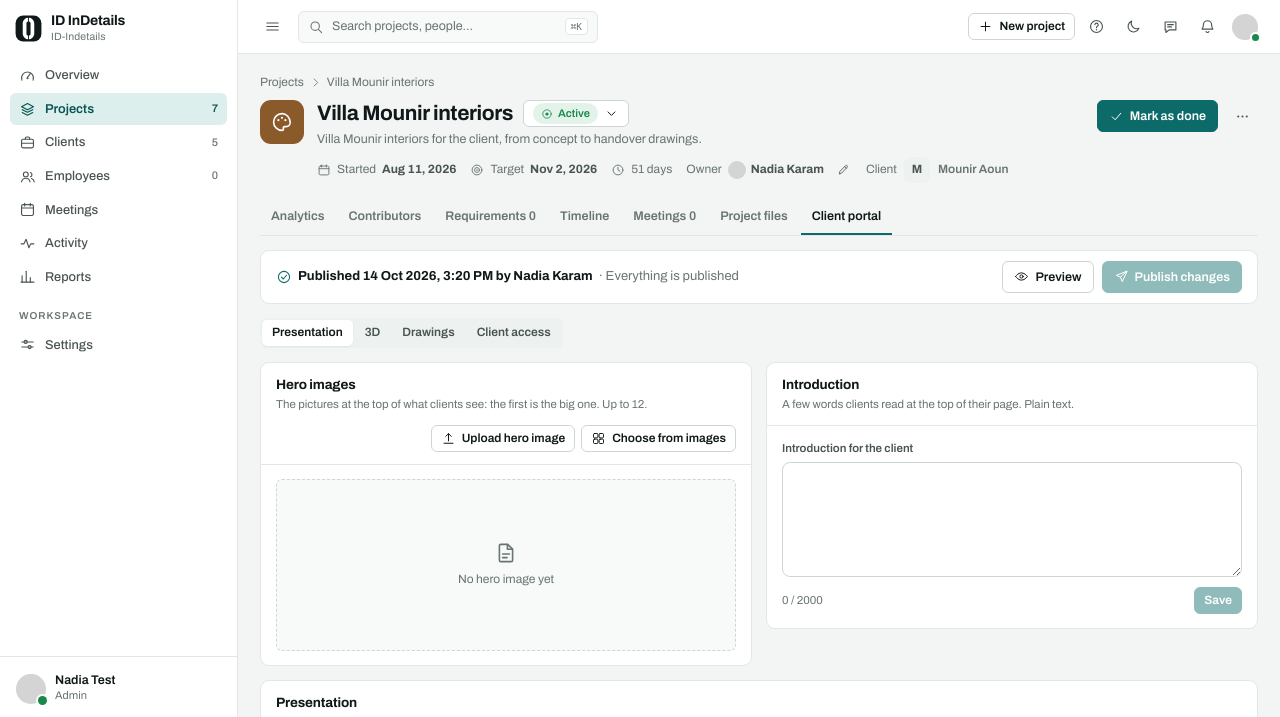
Test: the publish bar after a change that is undone › follows the server after every change to the files: shown to the client and hidden again is nothing to publish
Check: the text "· Everything is published" is shown, box [599,267,739,286]
Click the tab "Project files": (754, 217) [709,198,799,235]
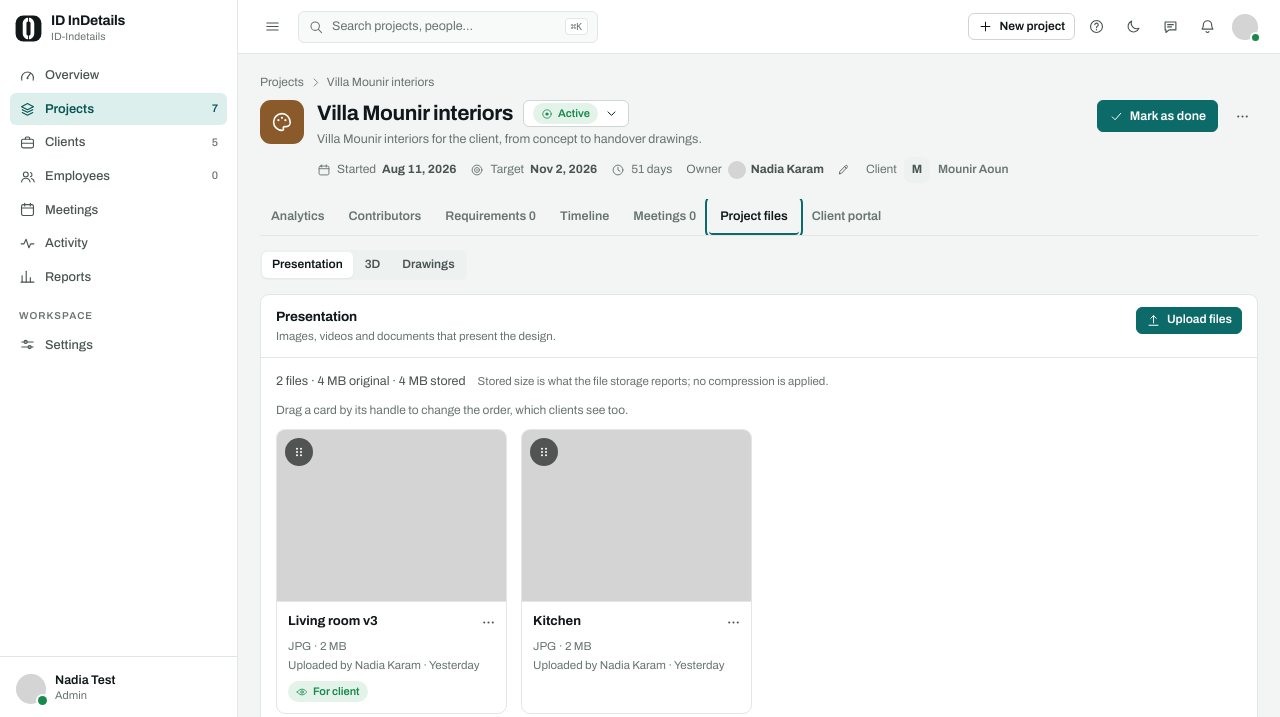
Click the button named "Actions for Kitchen": (731, 622) [718,609,744,635]
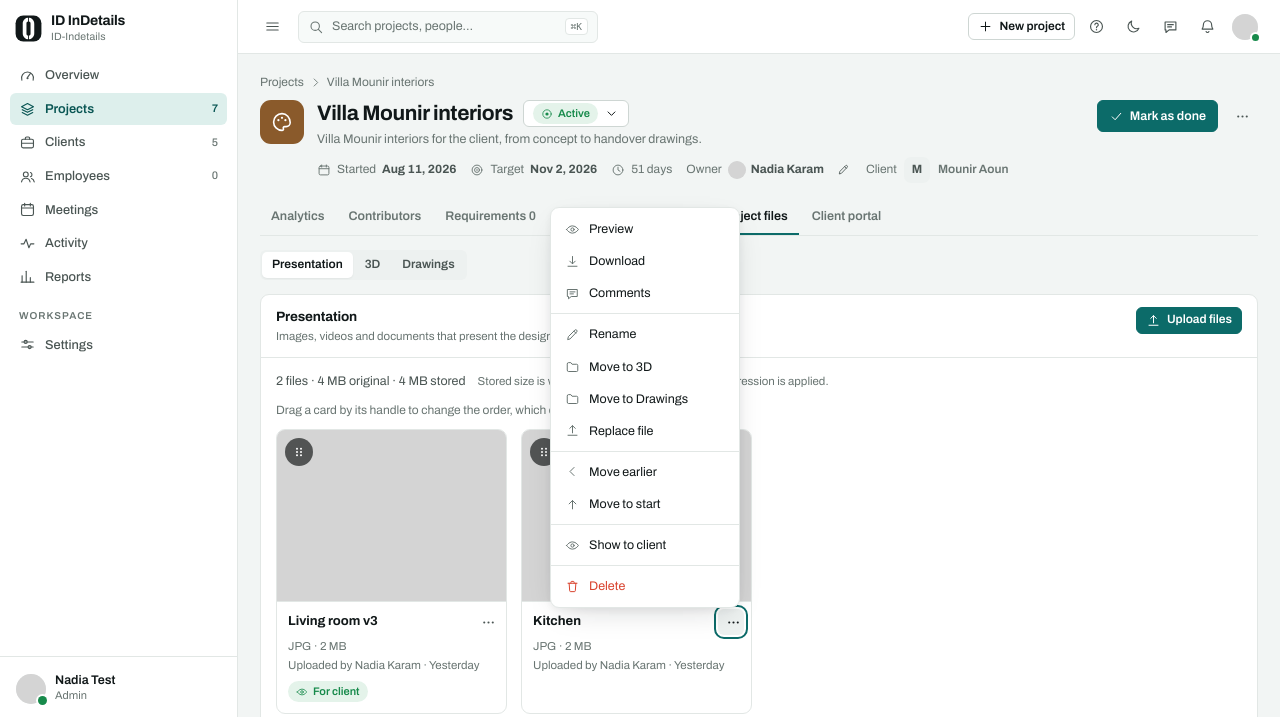
Click the button "Show to client": (645, 545) [556,529,734,561]
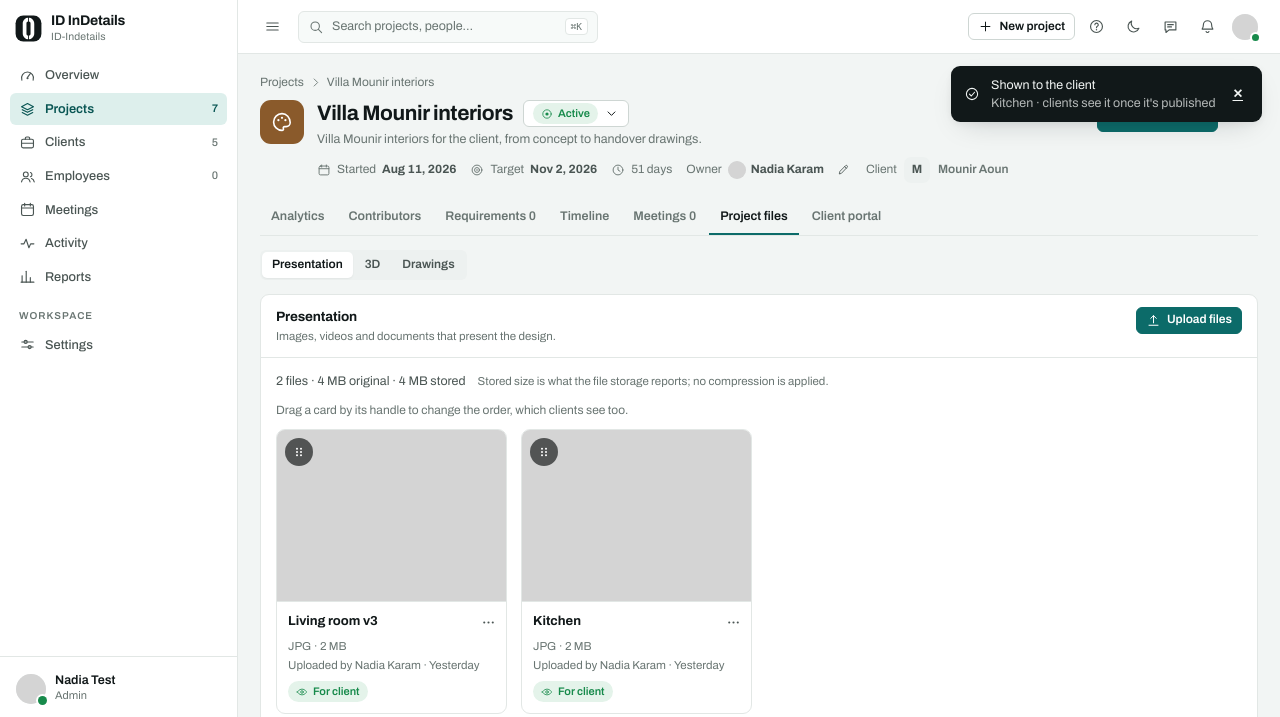
Check: the text "Shown to the client" is shown, box [991,78,1096,92]
Click the button named "Actions for Kitchen": (731, 622) [718,609,744,635]
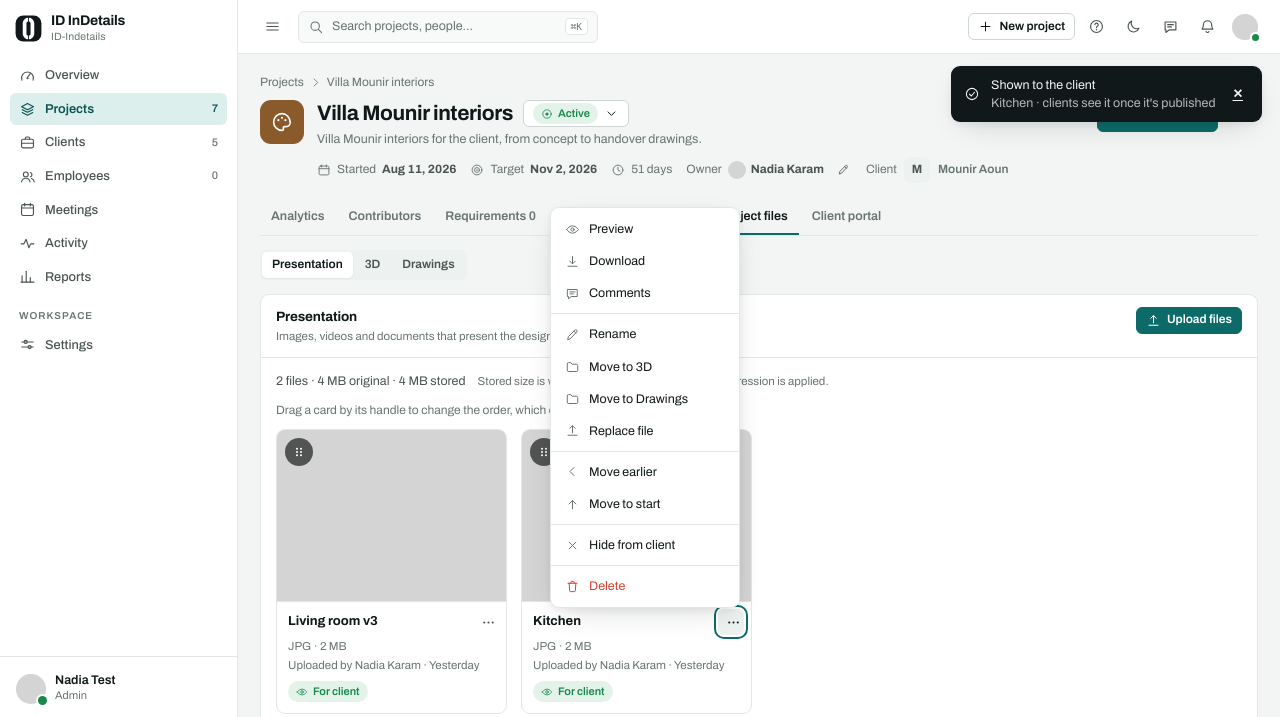
Click the button "Hide from client": (645, 545) [556,529,734,561]
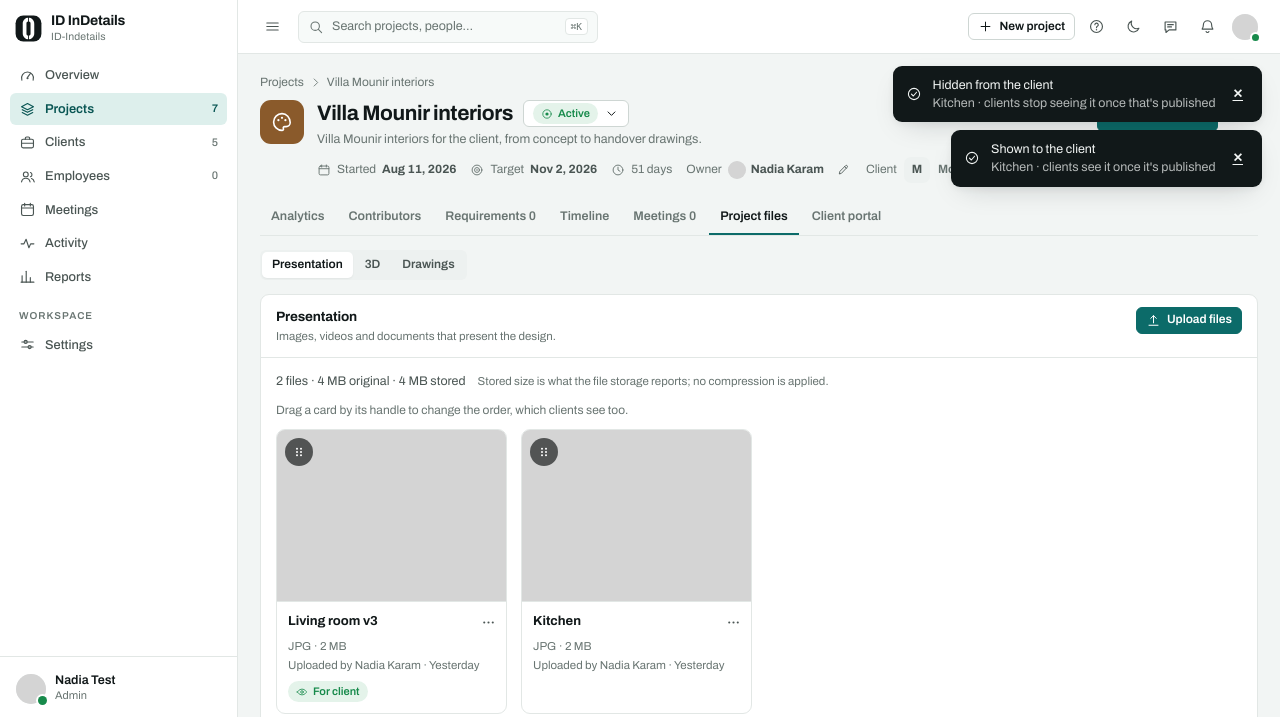
Check: the text "Hidden from the client" is shown, box [932,78,1053,92]
Click the tab "Client portal": (846, 217) [801,198,892,235]
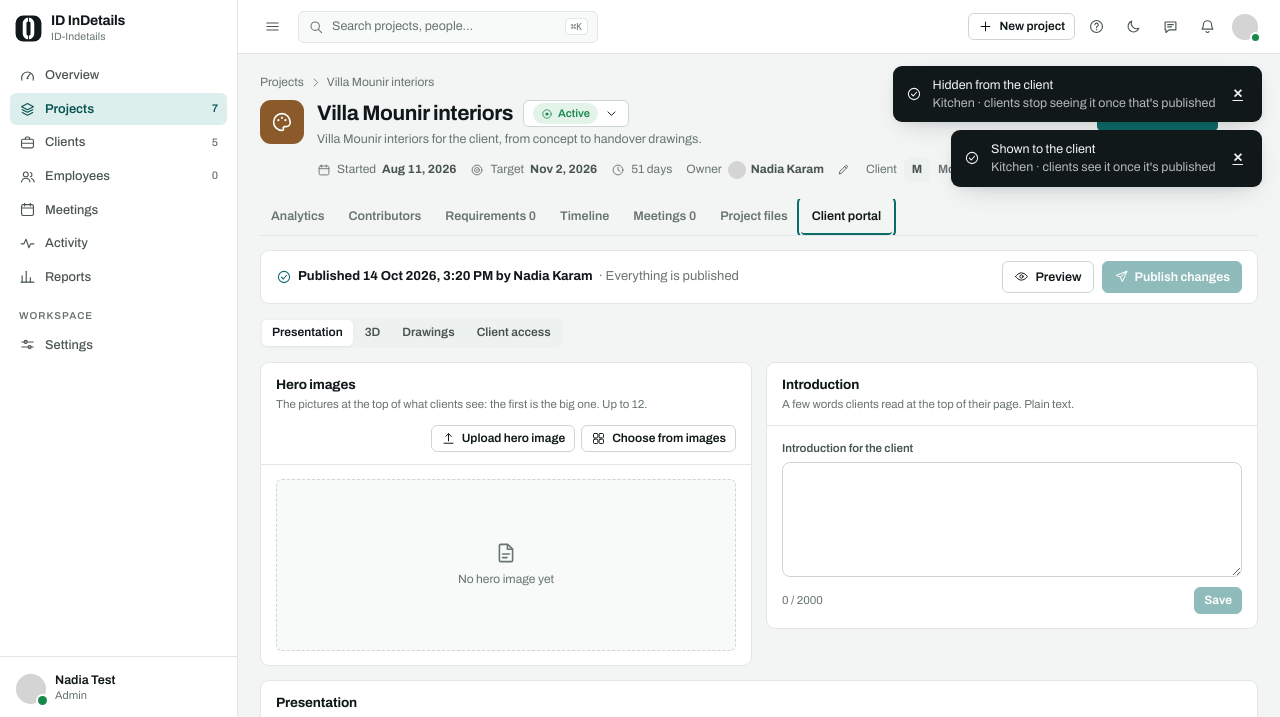
Check: the text "· Everything is published" is shown, box [599,267,739,286]
Check: the button "Publish changes" is disabled, box [1102,261,1242,293]
